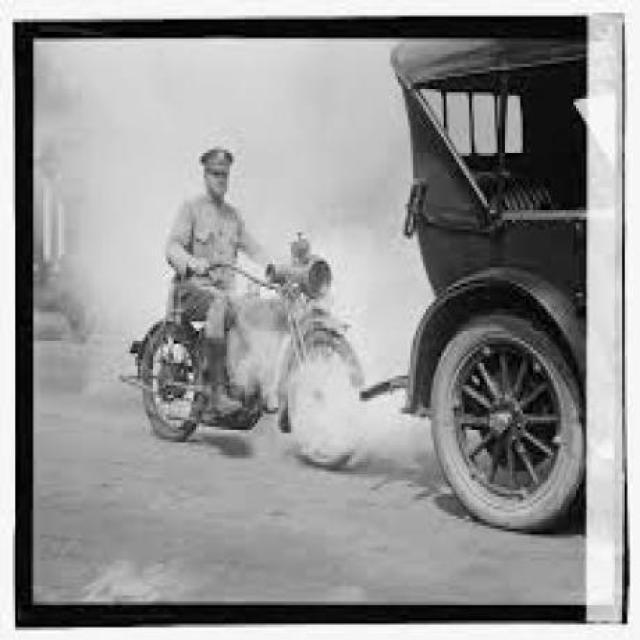Smoke: (32, 32, 166, 336), (240, 358, 438, 474), (256, 52, 380, 236)
